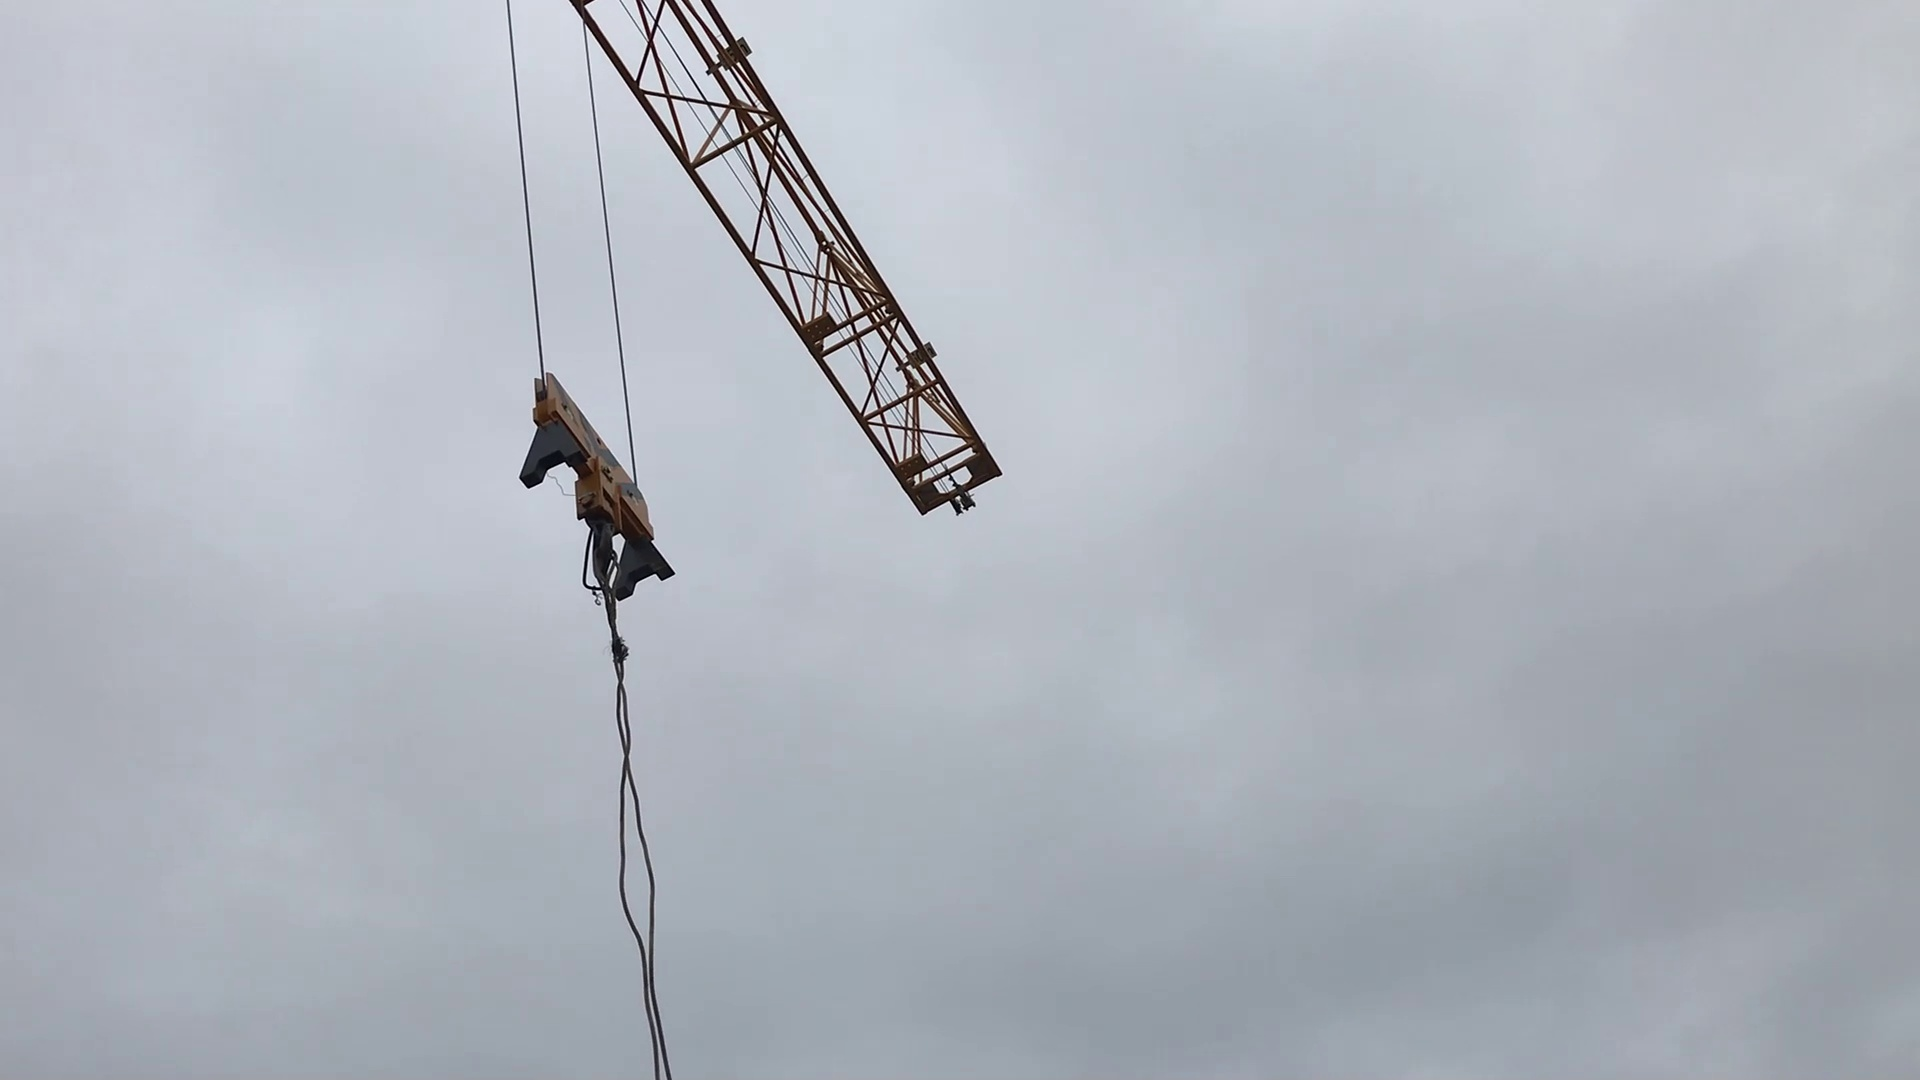hook: (483, 327, 692, 650)
